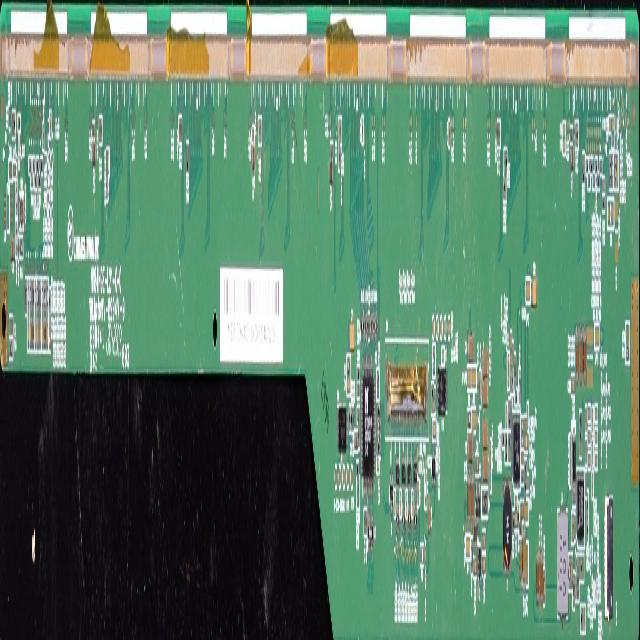Capacitor Jumper: (579, 322, 583, 389), (348, 322, 356, 352), (466, 471, 470, 525), (583, 322, 586, 391), (482, 452, 488, 483), (482, 349, 488, 378), (522, 528, 525, 586), (467, 435, 473, 463), (531, 276, 537, 303), (482, 379, 488, 406), (536, 549, 539, 603), (471, 471, 474, 524), (482, 423, 488, 449), (251, 144, 256, 173), (328, 158, 333, 186), (576, 327, 578, 387), (540, 547, 542, 607), (468, 334, 473, 357), (92, 140, 96, 168), (176, 110, 178, 164), (10, 232, 14, 258), (29, 318, 32, 351), (8, 135, 12, 159), (8, 156, 12, 180), (520, 542, 522, 588), (472, 558, 477, 576), (570, 146, 574, 168), (543, 568, 545, 610), (346, 376, 350, 396), (475, 456, 479, 476), (514, 350, 516, 388), (474, 516, 476, 554), (44, 313, 46, 349), (41, 313, 43, 349), (625, 323, 629, 341), (507, 352, 509, 388), (570, 376, 574, 394), (479, 371, 481, 407), (432, 420, 436, 438), (482, 532, 486, 550), (27, 315, 29, 350), (9, 317, 13, 334), (482, 555, 486, 572), (46, 315, 48, 348), (39, 317, 41, 349), (32, 316, 34, 348), (428, 503, 430, 535), (362, 114, 364, 146), (34, 318, 36, 349), (36, 318, 38, 349), (570, 559, 572, 590), (524, 435, 528, 450), (368, 310, 370, 339), (354, 432, 357, 451), (616, 156, 618, 184), (521, 433, 524, 451), (258, 118, 260, 145), (498, 122, 500, 149), (448, 120, 450, 146), (251, 125, 254, 142), (178, 117, 180, 142), (521, 415, 524, 431), (365, 510, 367, 534), (42, 124, 44, 148), (49, 113, 51, 136), (100, 119, 102, 142), (575, 122, 577, 145), (356, 407, 359, 422), (180, 120, 182, 142), (514, 512, 517, 526), (49, 316, 50, 352), (514, 496, 517, 508), (92, 124, 95, 136), (377, 457, 379, 473), (570, 125, 572, 141), (99, 115, 100, 144), (260, 120, 261, 145), (506, 403, 507, 427), (364, 512, 365, 536), (108, 149, 109, 173), (577, 125, 578, 148), (357, 386, 359, 397), (497, 124, 498, 144)
Resistor Jumper: (15, 216, 18, 256), (39, 147, 43, 175), (19, 236, 23, 260), (28, 151, 32, 175), (35, 151, 39, 174), (346, 350, 350, 372), (9, 339, 13, 360), (37, 171, 41, 191), (4, 127, 8, 147), (34, 276, 36, 315), (44, 276, 46, 313), (46, 278, 48, 314), (36, 280, 38, 316), (626, 344, 630, 362), (41, 278, 43, 312), (27, 280, 29, 314), (25, 281, 27, 315), (15, 183, 17, 216), (32, 150, 35, 172), (32, 281, 34, 312), (34, 173, 37, 193), (609, 156, 611, 185), (614, 156, 616, 185), (30, 173, 33, 192), (611, 156, 613, 184), (596, 173, 600, 186), (17, 115, 20, 131), (503, 178, 505, 201), (602, 178, 605, 193), (13, 114, 15, 136), (592, 176, 595, 190), (602, 195, 605, 209), (587, 172, 590, 185), (30, 279, 31, 316), (2, 148, 5, 160), (186, 159, 189, 171), (39, 278, 40, 312), (13, 162, 15, 178), (590, 157, 592, 173), (582, 152, 584, 166), (595, 158, 597, 172), (586, 159, 588, 173), (49, 290, 50, 316), (186, 142, 188, 155), (505, 176, 506, 201), (582, 170, 584, 182), (599, 159, 601, 171), (504, 152, 505, 175), (12, 112, 13, 134), (506, 151, 506, 175)
